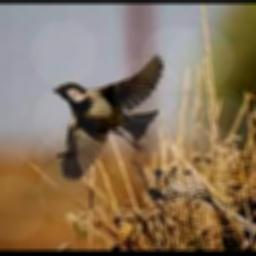Sparrow: (53, 53, 164, 180)
